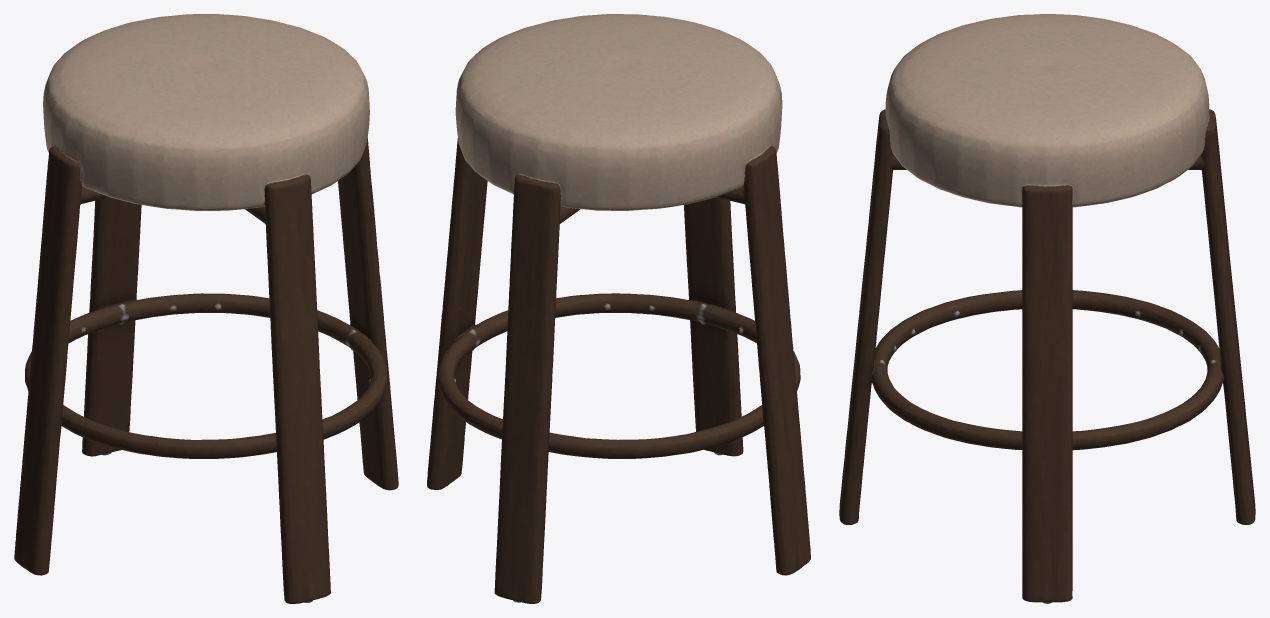
Rendered from island-stool-round-upholstered-web-mesh.glb.
3 renders of one model, left to right at view 1: azimuth 30°, elevation 25°; view 2: azimuth 150°, elevation 25°; view 3: azimuth 270°, elevation 25°, orthographic.
Parts seen in each view (by area): view 1: world; view 2: world; view 3: world.
Part boxes in pixels (x1,y1,x2,y2): world: (14, 14, 398, 603); world: (427, 14, 810, 603); world: (839, 14, 1255, 603).
Size of the model in its own units: 0.8309 by 1 by 0.8312.
1 material, 1 textured.
